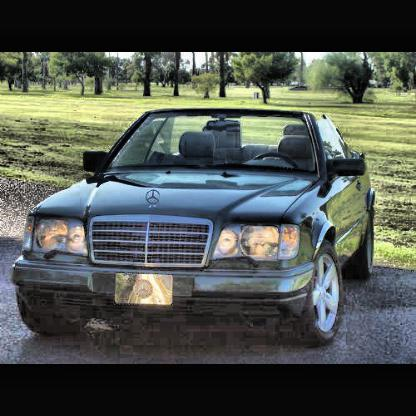Mercedes-Benz 300-Class Convertible 1993: (11, 109, 380, 350)
